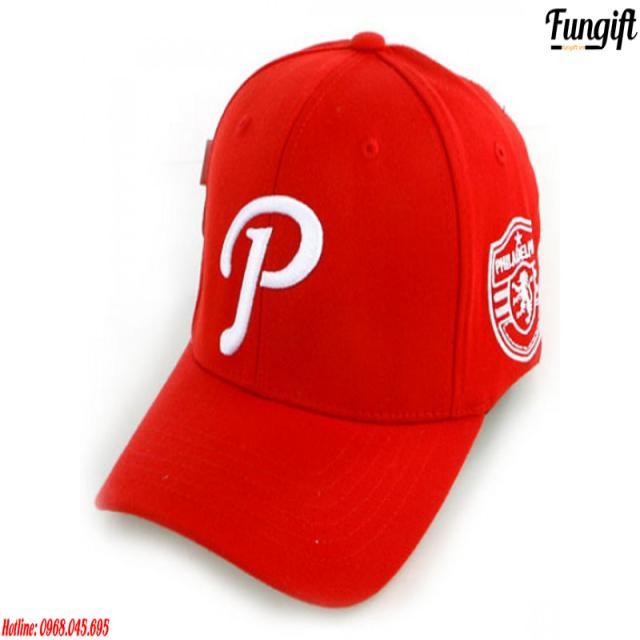no_helmet: (89, 21, 551, 619)
